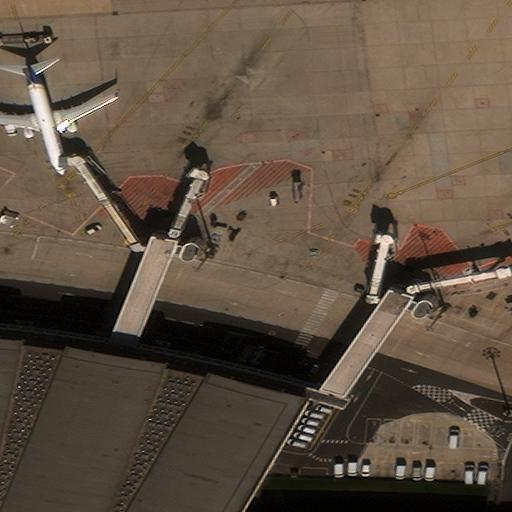Medium Civil Transport: (0, 63, 118, 174)
